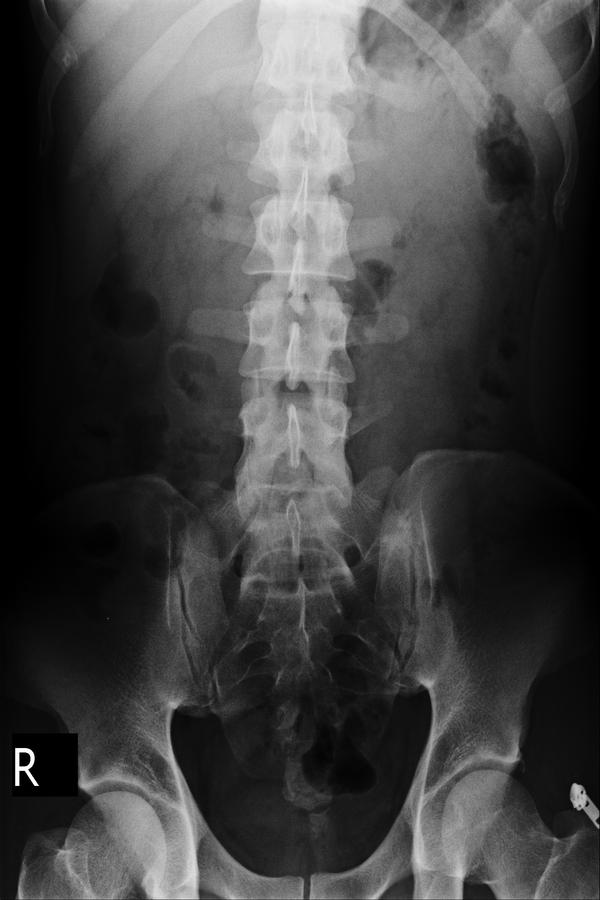lumbar scoliosis: (238, 11, 371, 564)
